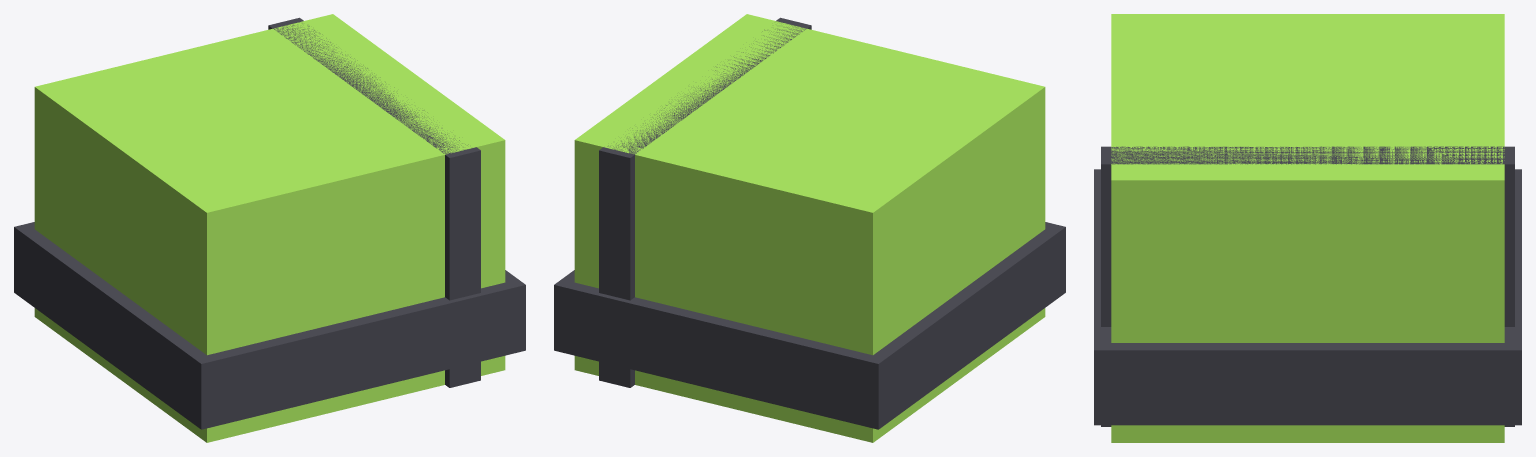
Rendered from goleiro_manga_inf.glb.
3 renders of one model, left to right at view 1: azimuth 30°, elevation 25°; view 2: azimuth 150°, elevation 25°; view 3: azimuth 270°, elevation 25°, orthographic. The views are drawn at different scales.
Visible parts, largest first — view 1: goleiro_manga_inf; view 2: goleiro_manga_inf; view 3: goleiro_manga_inf.
Boxes of the visible parts, left/top/right/bottom form: goleiro_manga_inf: left=14, top=14, right=525, bottom=442; goleiro_manga_inf: left=554, top=14, right=1065, bottom=442; goleiro_manga_inf: left=1094, top=14, right=1521, bottom=442.
Bounding box in the file's own units: 0.31 × 0.21 × 0.31.
